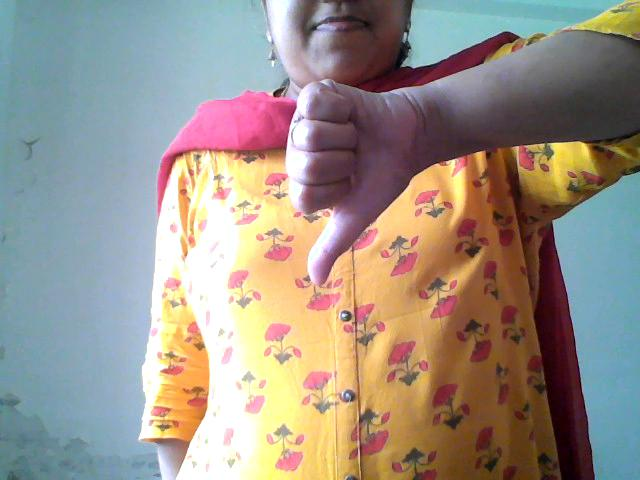thumbs-down: (265, 75, 498, 290)
